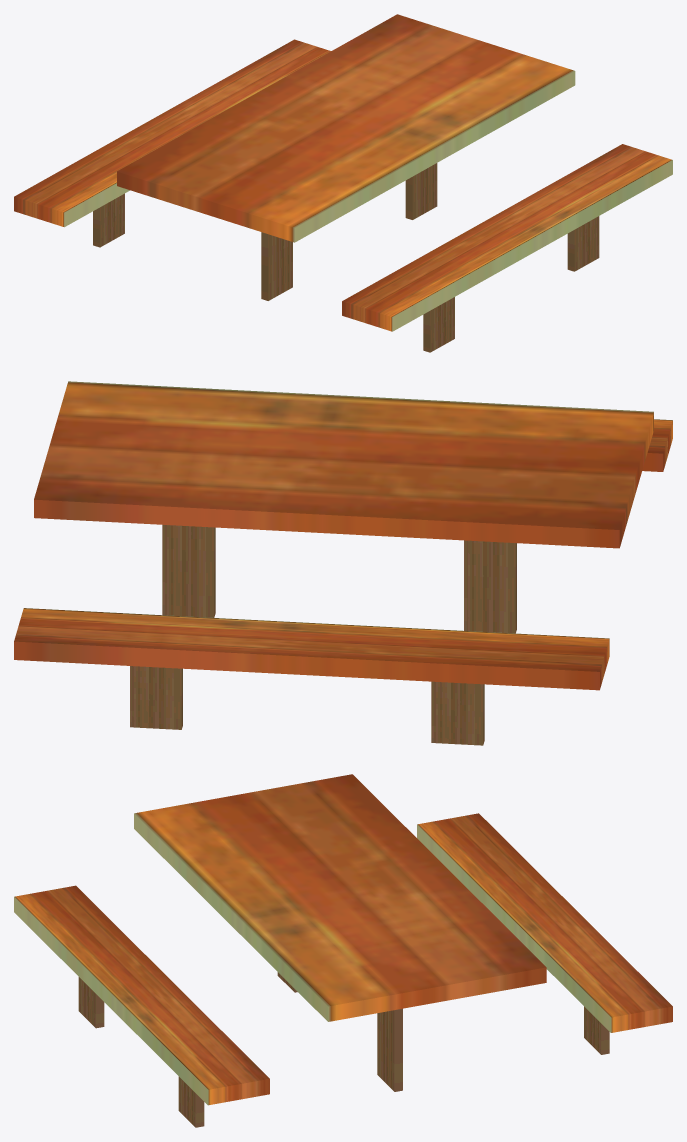
The model's file is ParkBench01.glb.
The picture shows the model from 3 angles, top to bottom: view 1: azimuth 30°, elevation 25°; view 2: azimuth 150°, elevation 25°; view 3: azimuth 270°, elevation 25°; orthographic projection. The views are drawn at different scales.
Visible parts, largest first — view 1: ParkBench01; view 2: ParkBench01; view 3: ParkBench01.
Boxes of the visible parts, x1=… form: ParkBench01: x1=14, y1=14, x2=672, y2=352; ParkBench01: x1=14, y1=381, x2=672, y2=745; ParkBench01: x1=14, y1=774, x2=672, y2=1127.
Bounding box in the file's own units: 500 × 119 × 503.
Materials: 2 (2 with a texture image).
